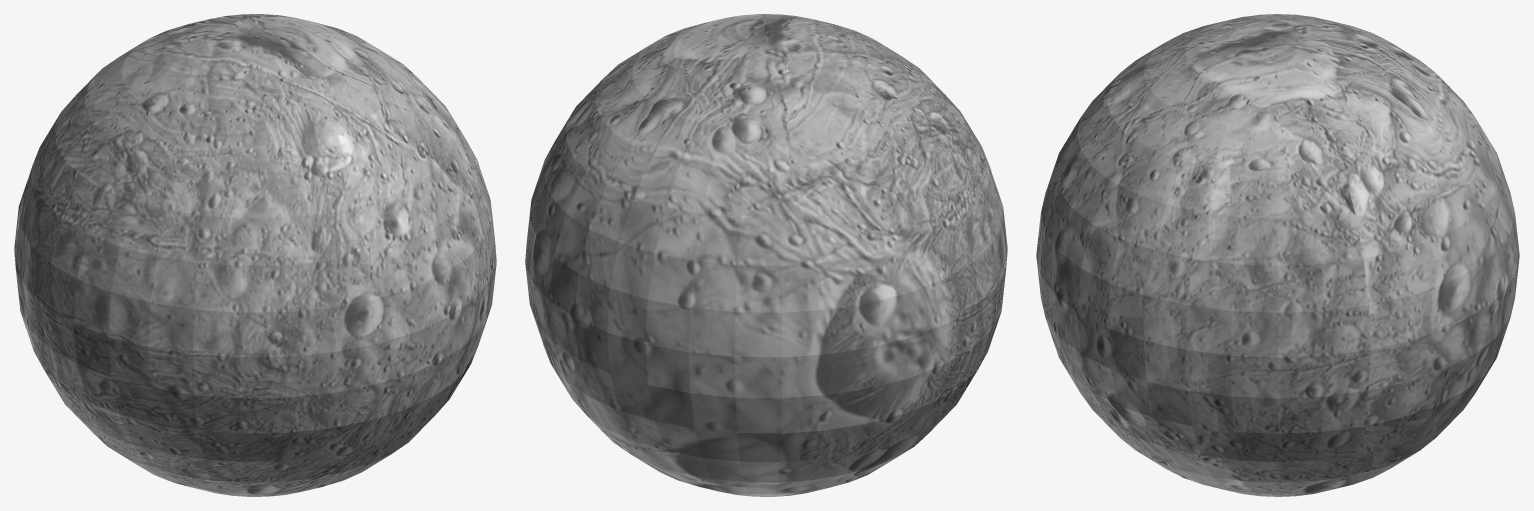
File: moon.obj
The picture shows the model from 3 angles, left to right: view 1: azimuth 30°, elevation 25°; view 2: azimuth 150°, elevation 25°; view 3: azimuth 270°, elevation 25°; orthographic projection.
Parts seen in each view (by area): view 1: Sphere; view 2: Sphere; view 3: Sphere.
Part boxes in pixels (x1,y1,x2,y2): Sphere: (14, 14, 496, 496); Sphere: (525, 14, 1007, 496); Sphere: (1036, 14, 1519, 496).
Size of the model in its own units: 13.5 by 13.5 by 13.5.
Materials: 1 (1 with a texture image).
